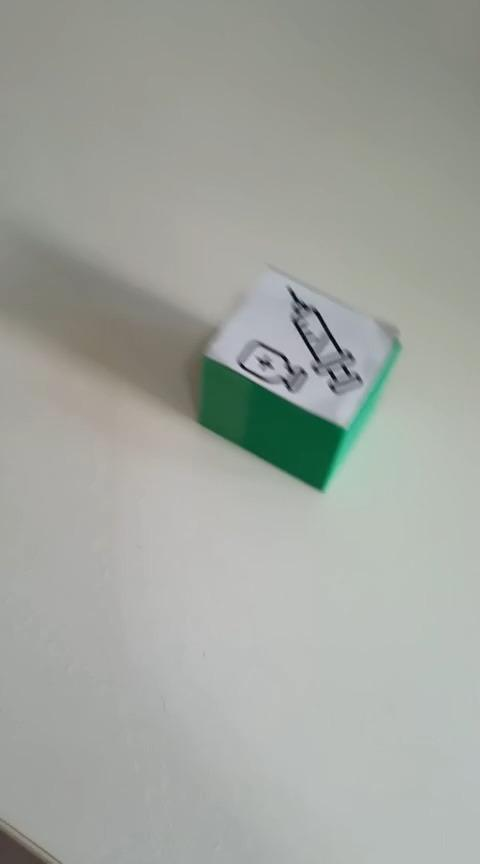antiseptic cream: (195, 261, 402, 493)
